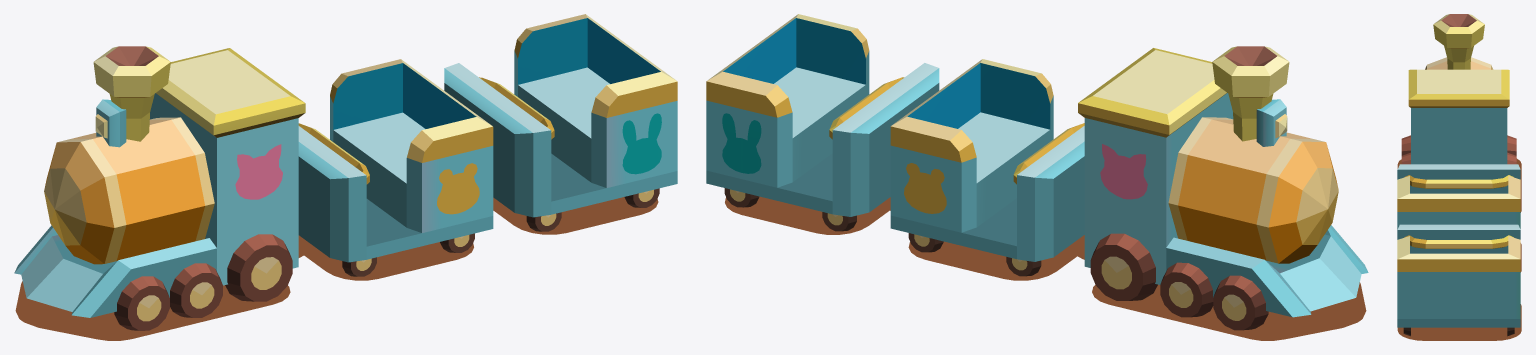
File: barrier_007.fbx
3 views of the same model, side by side, from view 1: azimuth 30°, elevation 25°; view 2: azimuth 150°, elevation 25°; view 3: azimuth 270°, elevation 25° (orthographic). The views are drawn at different scales.
Parts seen in each view (by area): view 1: barrier_007; view 2: barrier_007; view 3: barrier_007.
Boxes of the visible parts, x1,y1,x2,y2 form: barrier_007: (14, 14, 677, 340); barrier_007: (706, 14, 1368, 340); barrier_007: (1397, 14, 1521, 340).
Bounding box in the file's own units: 301 × 114 × 79.65.
